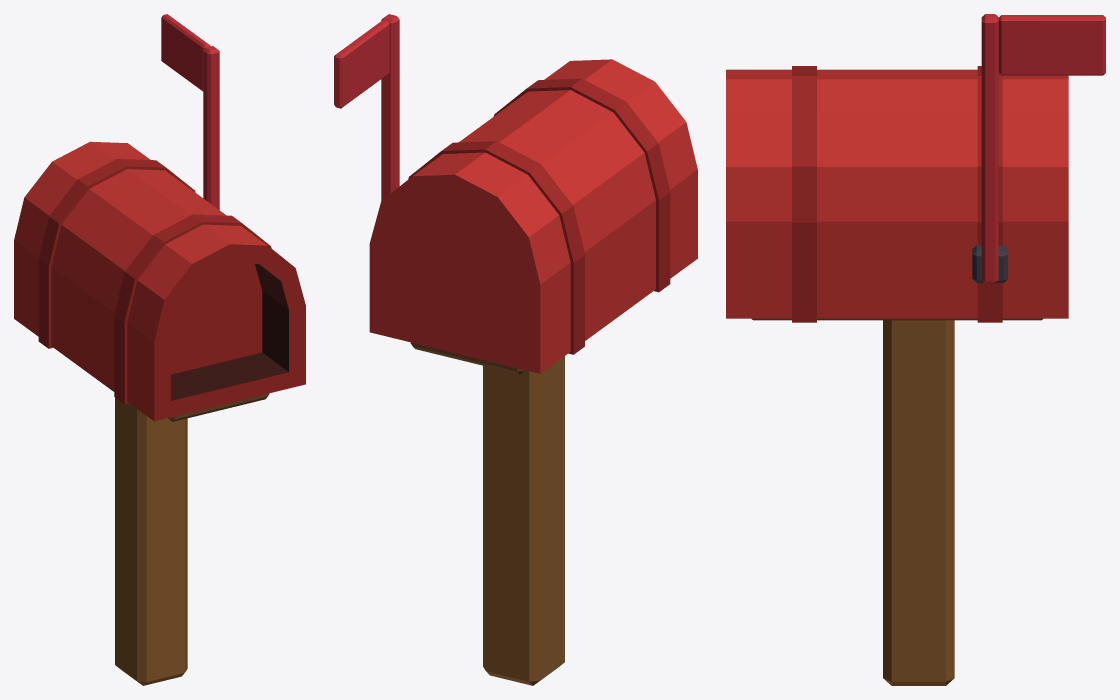
The model's file is Prop_Mailbox.fbx.
The picture shows the model from 3 angles, left to right: view 1: azimuth 30°, elevation 25°; view 2: azimuth 150°, elevation 25°; view 3: azimuth 270°, elevation 25°; orthographic projection. The views are drawn at different scales.
Visible parts, largest first — view 1: Prop_Mailbox; view 2: Prop_Mailbox; view 3: Prop_Mailbox.
Boxes of the visible parts, x1,y1,x2,y2 form: Prop_Mailbox: [14, 14, 305, 685]; Prop_Mailbox: [334, 14, 697, 685]; Prop_Mailbox: [726, 14, 1105, 685].
Size of the model in its own units: 0.3442 by 1.1 by 0.532.
